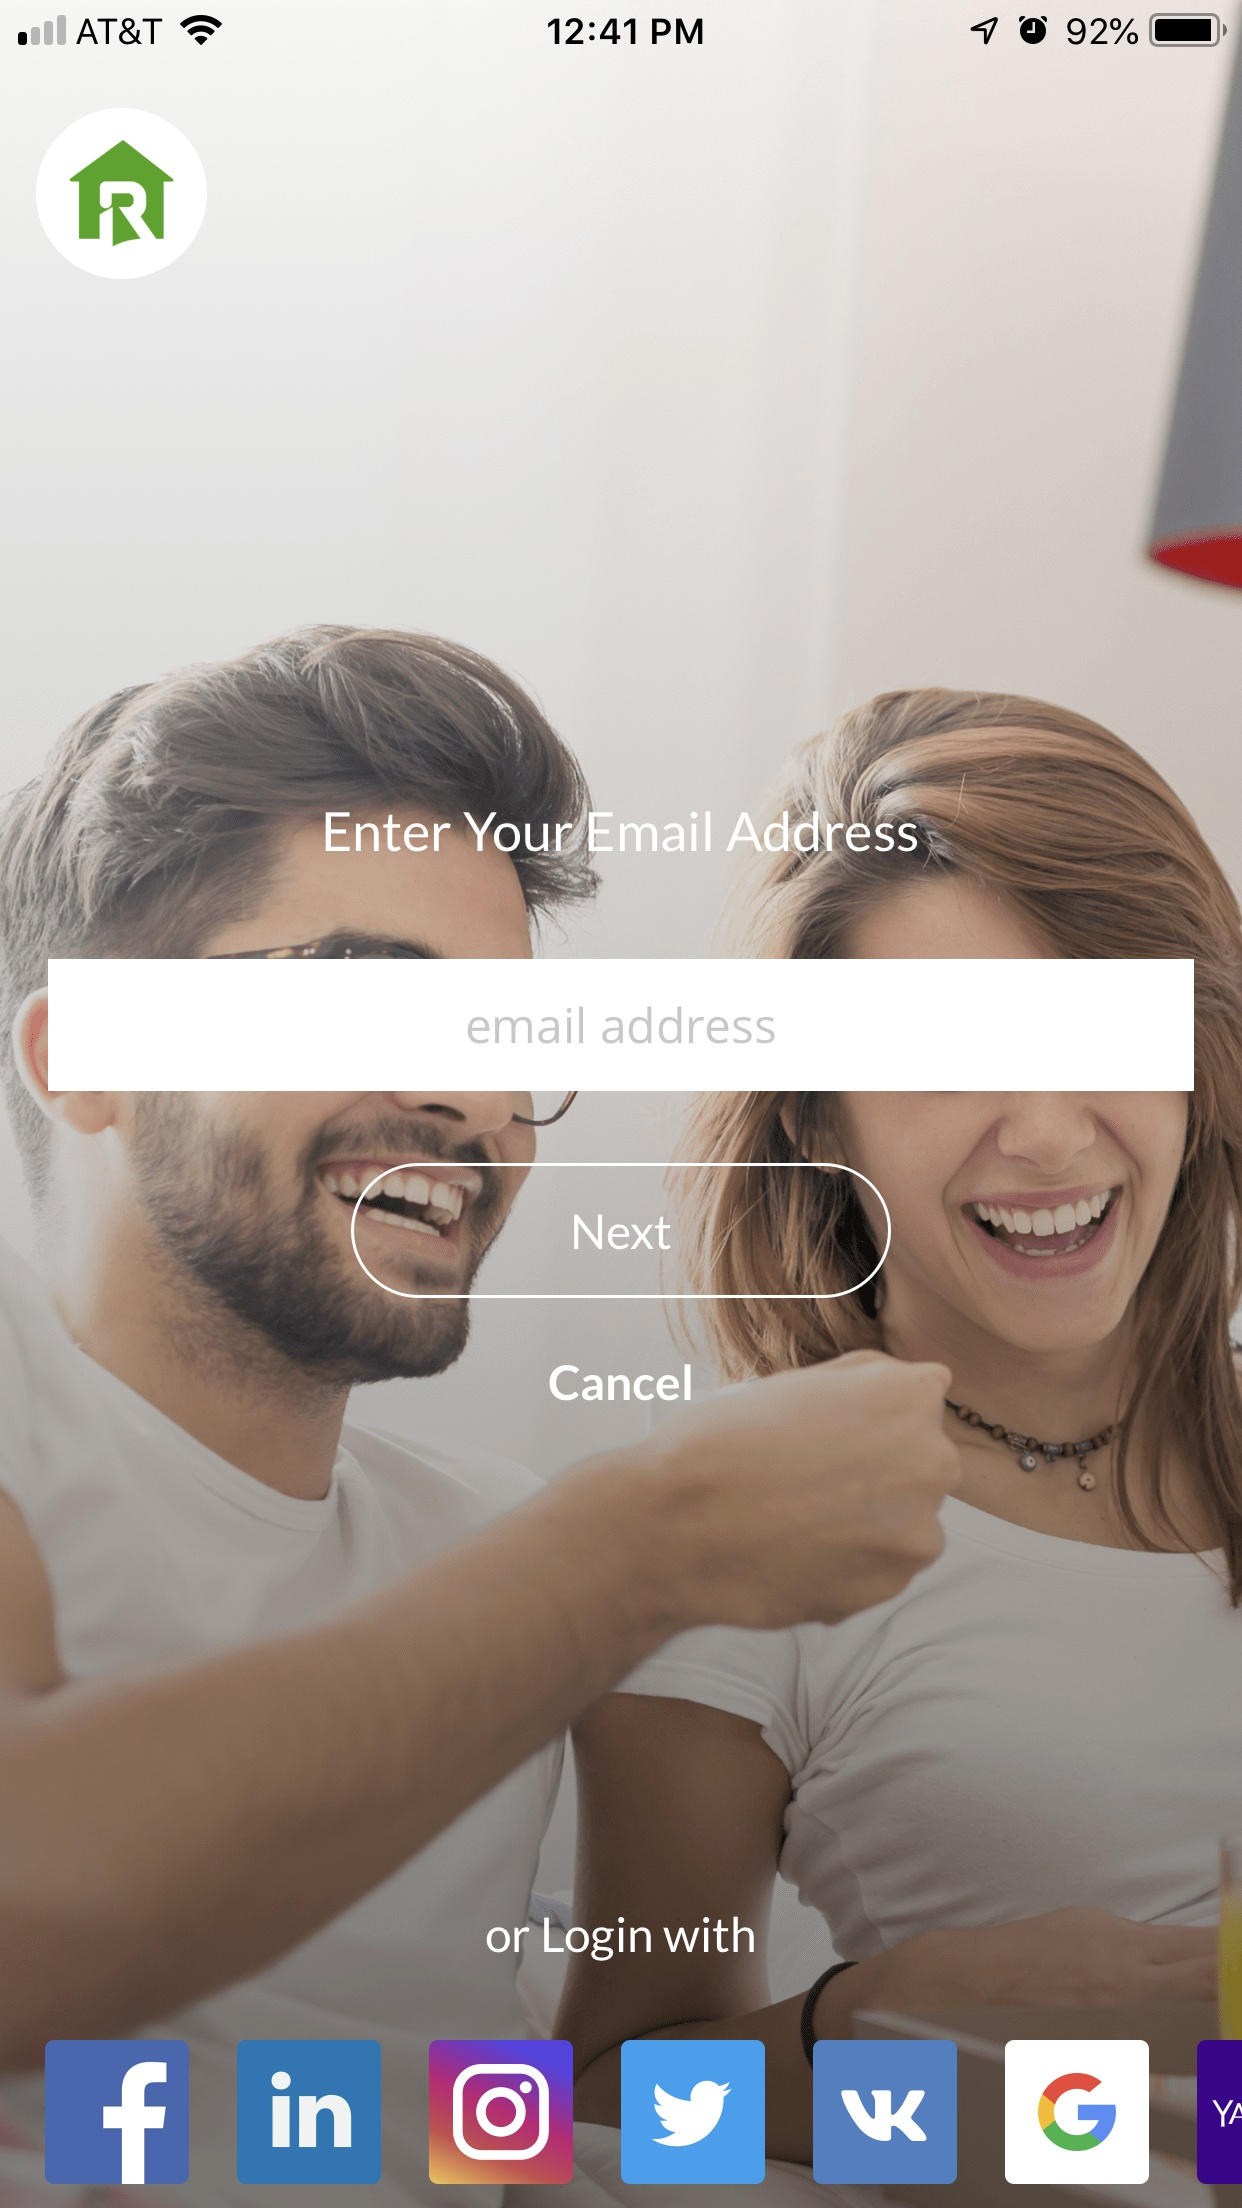BackgroundImage: (2, 2, 1242, 2208)
EditText: (49, 960, 1193, 1092)
Icon: (36, 108, 209, 281), (620, 2040, 766, 2185), (1004, 2040, 1149, 2185), (45, 2040, 190, 2185)
Image: (237, 2040, 382, 2185), (429, 2040, 575, 2185), (813, 2040, 958, 2185), (1197, 2040, 1242, 2185)
Text: (325, 811, 917, 852), (466, 1005, 776, 1046), (485, 1915, 755, 1962), (547, 1363, 692, 1403)
TextButton: (350, 1162, 892, 1300)
UpperTaskBar: (2, 2, 1242, 49)
